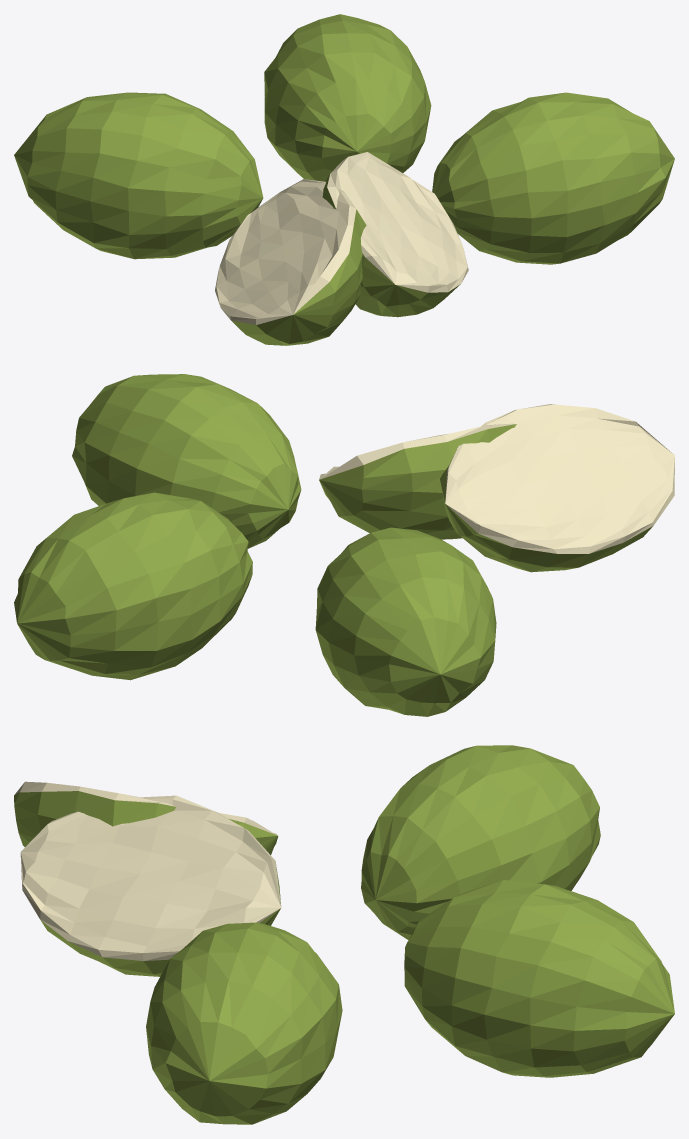
File: pistachio.glb
3 views of the same model, one above another, from view 1: azimuth 30°, elevation 25°; view 2: azimuth 150°, elevation 25°; view 3: azimuth 270°, elevation 25° (orthographic). The views are drawn at different scales.
Size of the model in its own units: 2.81 by 0.8132 by 2.74.
